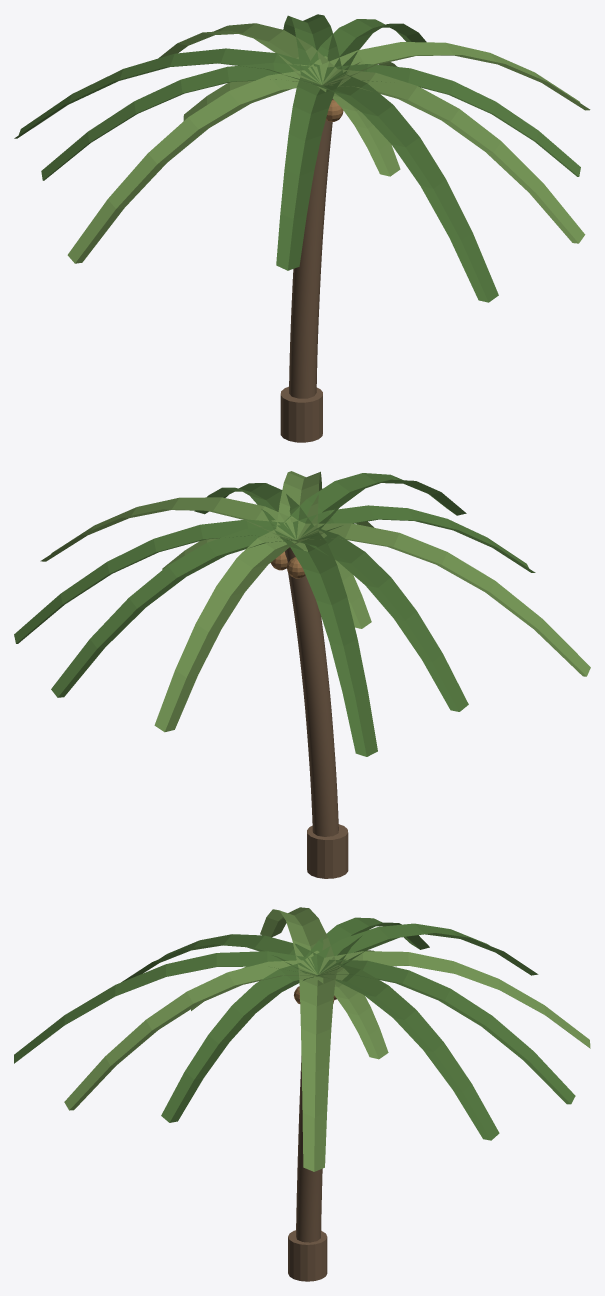
Rendered from palm-hero.glb.
3 views of the same model, one above another, from view 1: azimuth 30°, elevation 25°; view 2: azimuth 150°, elevation 25°; view 3: azimuth 270°, elevation 25° (orthographic). The views are drawn at different scales.
Visible parts, largest first — view 1: frond-8, trunk, frond-6, frond-7, frond-9, frond-5, frond-4, frond-10, frond-0, frond-3, trunk-base, frond-1 (+3 smaller); view 2: trunk, frond-4, frond-3, frond-5, frond-2, frond-6, frond-1, frond-0, frond-7, frond-8, trunk-base, frond-9 (+2 smaller); view 3: frond-0, frond-1, frond-10, frond-9, frond-2, frond-8, frond-3, frond-4, trunk, frond-6, spear-0, frond-7 (+2 smaller).
Boxes of the visible parts, left/top/right/bottom form: frond-8: left=311, top=73, right=498, bottom=302; trunk: left=289, top=98, right=333, bottom=398; frond-6: left=67, top=70, right=322, bottom=263; frond-7: left=276, top=77, right=342, bottom=270; frond-9: left=316, top=69, right=585, bottom=243; frond-5: left=41, top=62, right=320, bottom=180; frond-4: left=14, top=48, right=322, bottom=138; frond-10: left=323, top=64, right=580, bottom=176; frond-0: left=319, top=42, right=590, bottom=110; frond-3: left=158, top=23, right=337, bottom=84; trunk-base: left=280, top=386, right=322, bottom=442; frond-1: left=304, top=19, right=426, bottom=83; trunk: left=285, top=547, right=338, bottom=836; frond-4: left=279, top=532, right=377, bottom=756; frond-3: left=154, top=529, right=310, bottom=732; frond-5: left=286, top=528, right=468, bottom=711; frond-2: left=51, top=525, right=303, bottom=697; frond-6: left=297, top=523, right=590, bottom=676; frond-1: left=14, top=519, right=296, bottom=643; frond-0: left=40, top=497, right=305, bottom=561; frond-7: left=293, top=505, right=535, bottom=572; frond-8: left=281, top=473, right=466, bottom=539; trunk-base: left=307, top=824, right=348, bottom=878; frond-9: left=276, top=471, right=322, bottom=539; frond-0: left=298, top=968, right=337, bottom=1171; frond-1: left=310, top=963, right=499, bottom=1140; frond-10: left=161, top=963, right=330, bottom=1122; frond-9: left=64, top=960, right=320, bottom=1110; frond-2: left=318, top=959, right=575, bottom=1104; frond-8: left=14, top=951, right=317, bottom=1063; frond-3: left=318, top=951, right=590, bottom=1048; frond-4: left=310, top=923, right=538, bottom=975; trunk: left=296, top=1056, right=322, bottom=1242; frond-6: left=260, top=907, right=336, bottom=974; spear-0: left=304, top=965, right=388, bottom=1059; frond-7: left=121, top=934, right=323, bottom=982.
Bounding box in the file's own units: 4.9 × 3.11 × 4.99.
